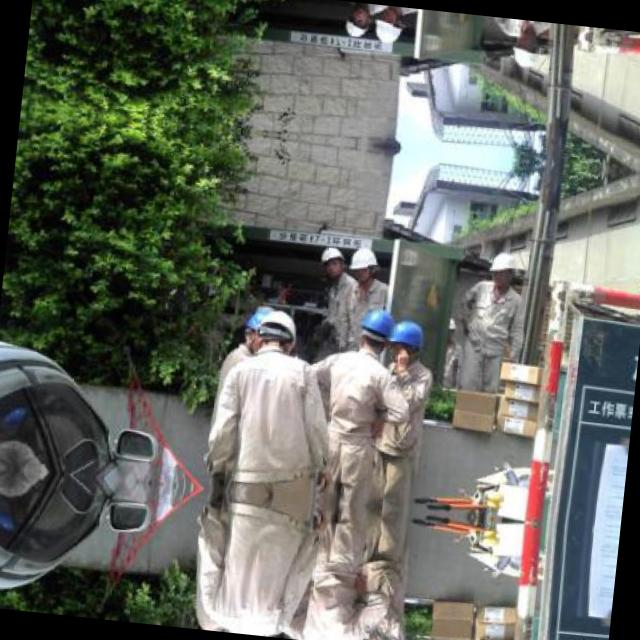helmet: (242, 304, 298, 360), (381, 316, 427, 376), (354, 306, 396, 358), (511, 28, 548, 72), (488, 248, 525, 291), (348, 244, 381, 282), (373, 8, 406, 46), (316, 242, 346, 277), (341, 6, 370, 41), (252, 302, 266, 352)
